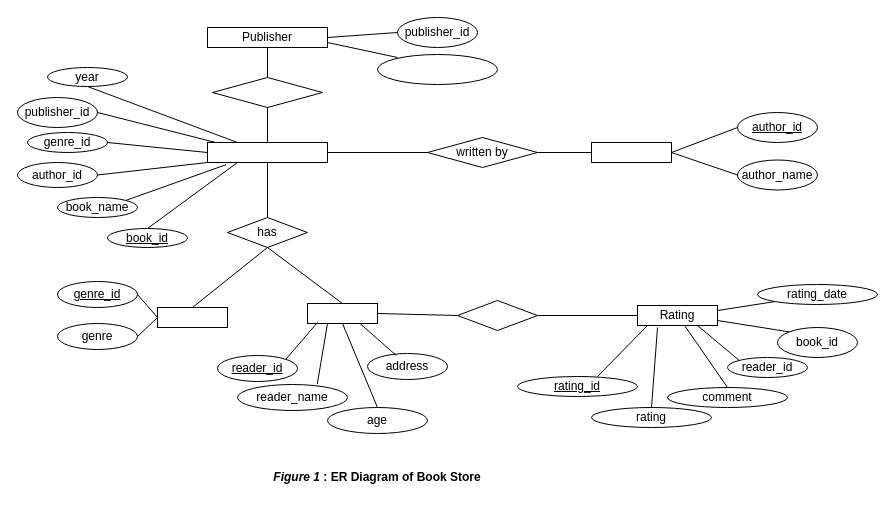
This 895x505 diagram has some shape labels left out. The shapes that lost their labels are listed below. From the top down, each one's centre as x and y in pixels, then its label:
the point at 437,69: publisher_name
the point at 267,92: published by
the point at 267,152: Book
the point at 631,152: Author
the point at 192,317: Genres
the point at 342,313: Reader
the point at 497,315: gives
